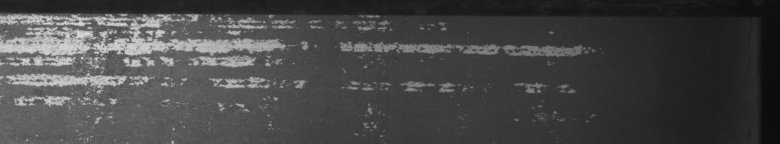kb: (4, 8, 528, 136)
